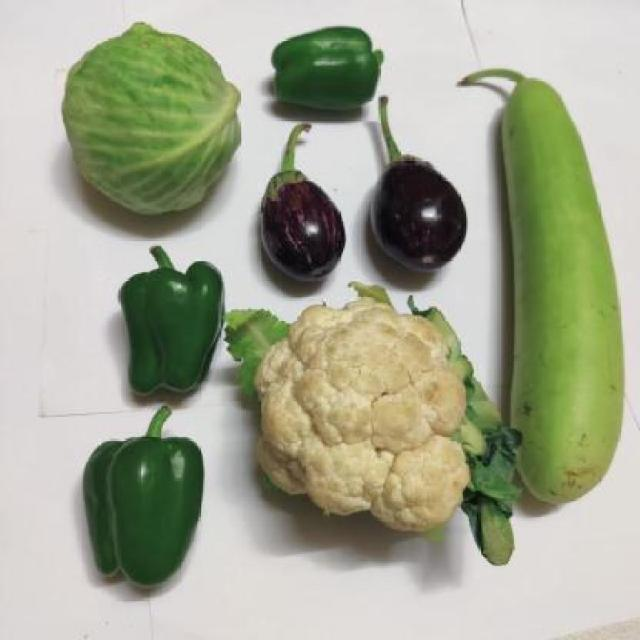Brinjal: (368, 100, 476, 271), (255, 123, 358, 279)
Cabbage: (34, 22, 250, 215)
Calabash: (488, 56, 638, 510)
Capsicum: (62, 400, 235, 592), (96, 240, 242, 402), (258, 26, 404, 117)
Cauliflower: (250, 294, 518, 574)
